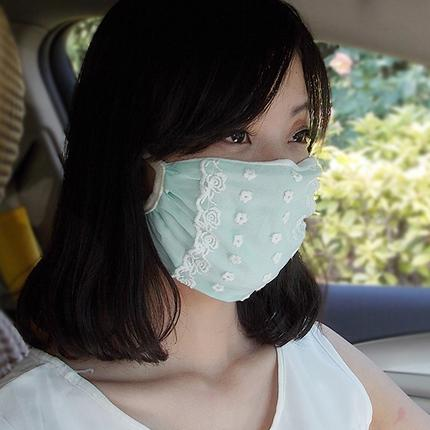OK: (138, 104, 319, 297)
